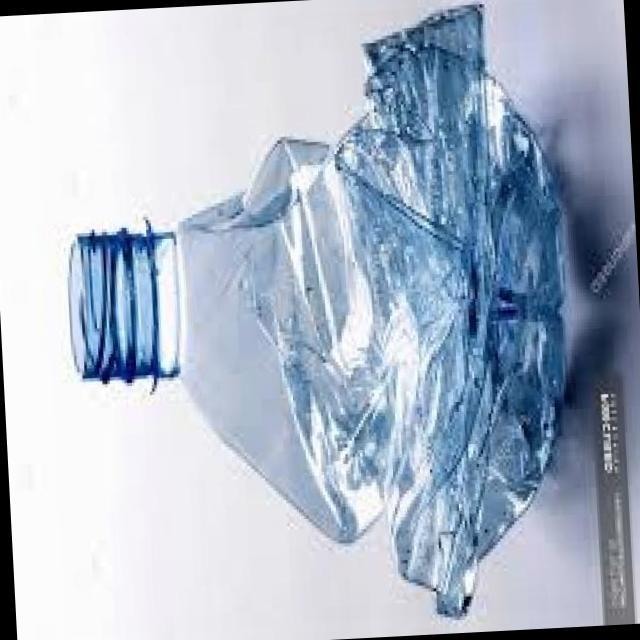defected: (31, 0, 592, 636)
